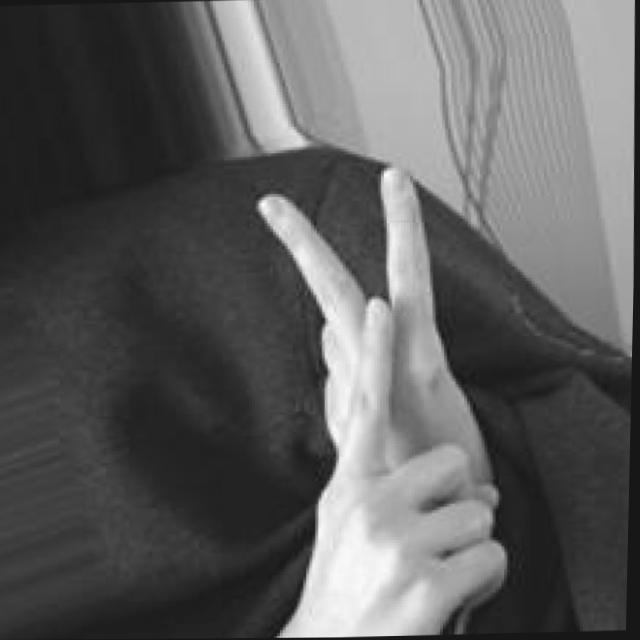Y: (236, 160, 518, 638)
